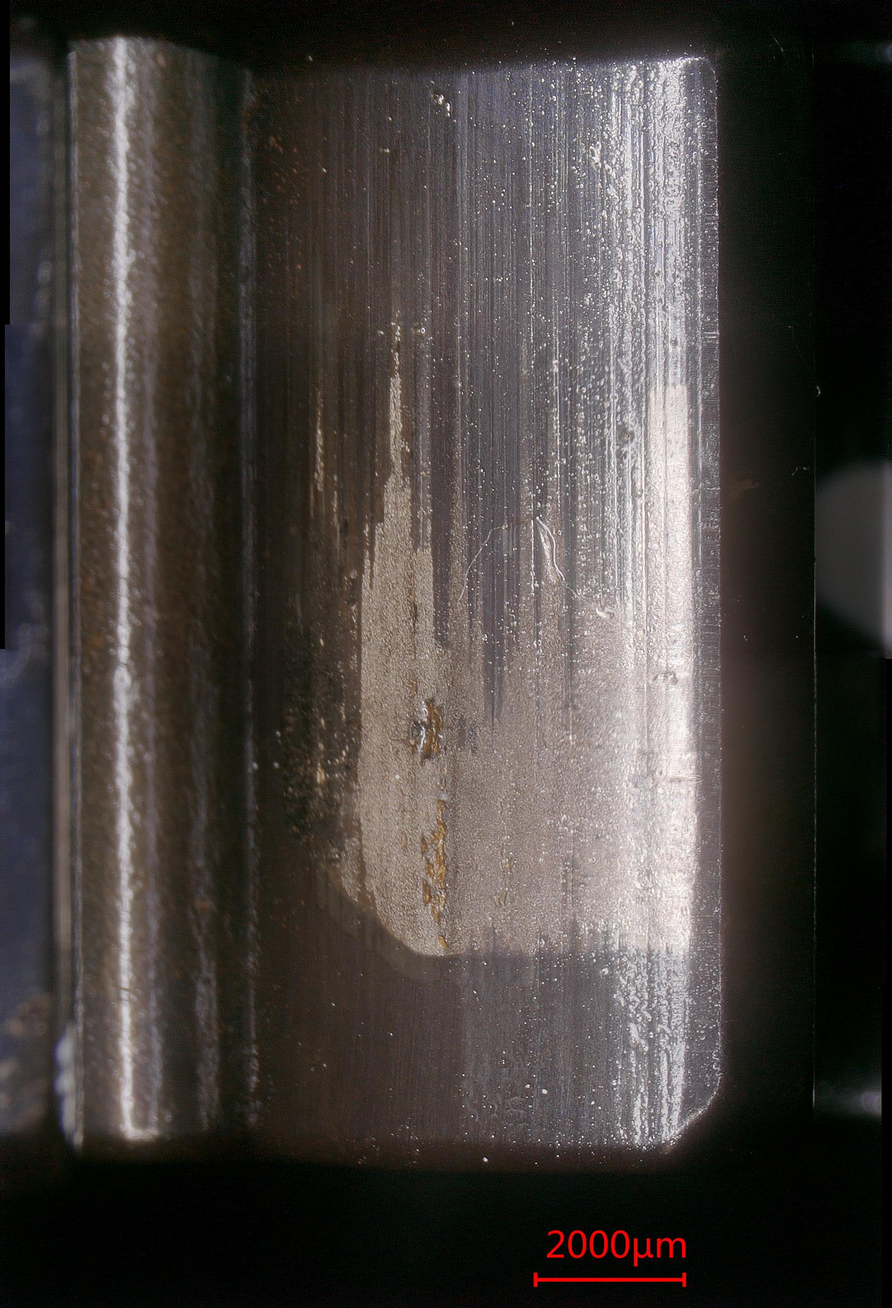Abrasion: (239, 65, 713, 1158)
